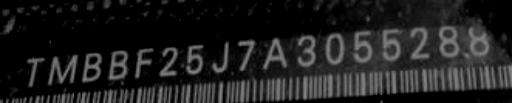letter: (46, 52, 80, 89), (258, 32, 290, 71), (467, 21, 493, 58), (436, 22, 462, 59), (406, 25, 432, 62), (379, 24, 403, 63), (351, 27, 375, 64), (322, 29, 346, 66), (132, 45, 156, 82), (106, 47, 130, 84), (80, 49, 104, 86), (21, 54, 47, 88), (296, 31, 318, 70), (234, 38, 256, 75), (158, 43, 180, 80), (212, 39, 232, 76), (184, 42, 204, 79)
